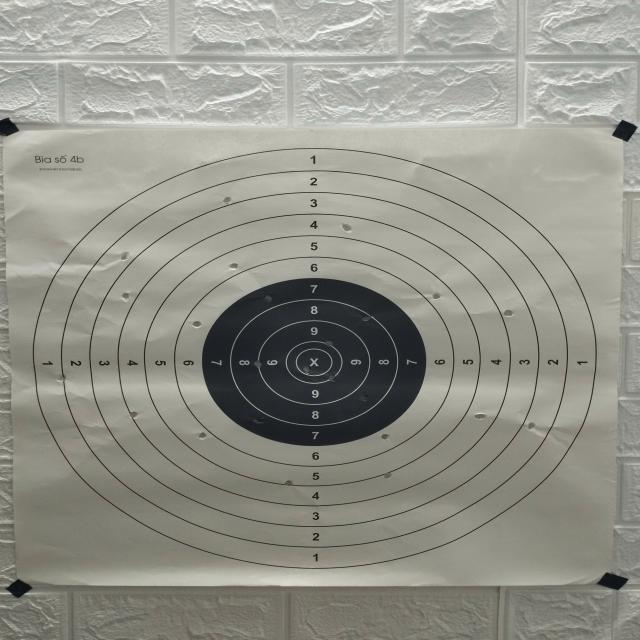bullet: (342, 223, 352, 232), (252, 417, 264, 424), (121, 292, 130, 301), (121, 251, 130, 260), (254, 360, 262, 370), (129, 411, 138, 419), (198, 432, 207, 440), (474, 413, 486, 419), (223, 197, 232, 205), (360, 394, 369, 402), (193, 321, 202, 328), (383, 472, 392, 479), (432, 292, 441, 299), (229, 263, 238, 270), (265, 294, 272, 302), (302, 367, 310, 374), (56, 376, 65, 382), (504, 310, 513, 316), (362, 315, 371, 321), (528, 422, 535, 429), (284, 480, 292, 486), (381, 434, 389, 440), (325, 340, 333, 346), (329, 375, 335, 381)
target: (5, 128, 622, 586)
